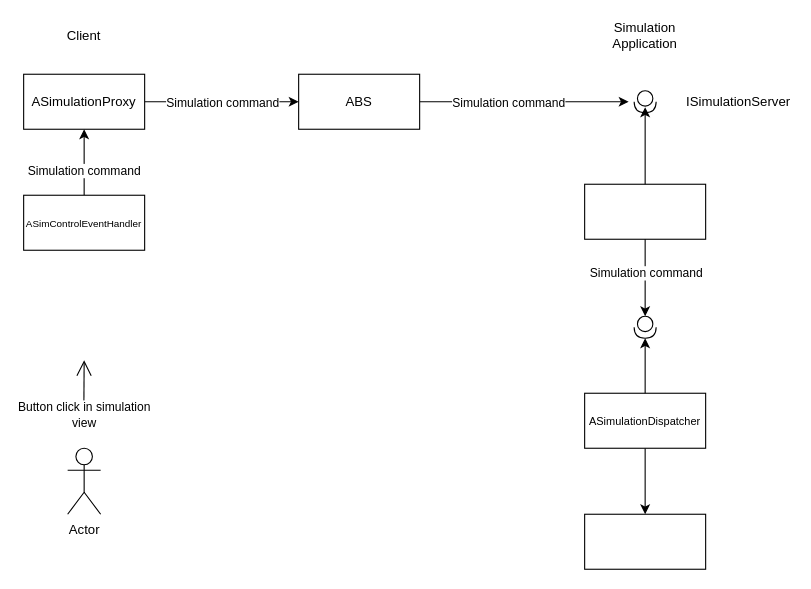
The diagram is 811 pixels wide and 589 high, and some of its shapes have lost their labels. Each missing label, with the centre of its shape:
ASimulationServer: [645,211]
Lanner L-Sim: [645,541]
